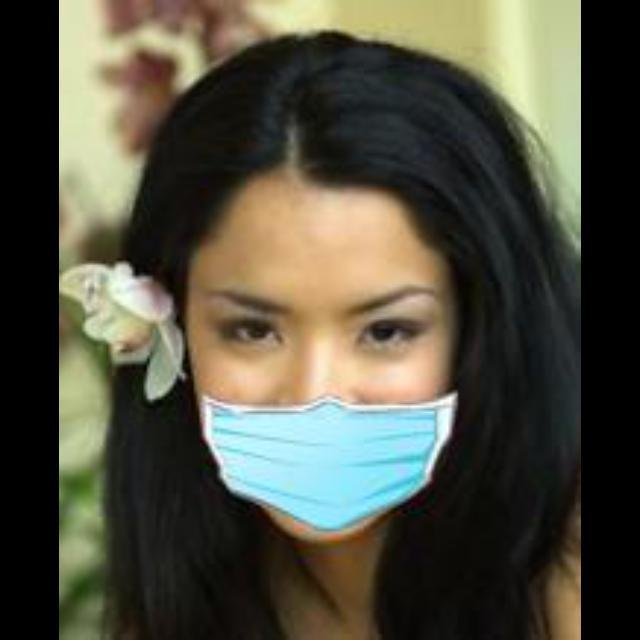suspicion: (137, 90, 483, 510)
